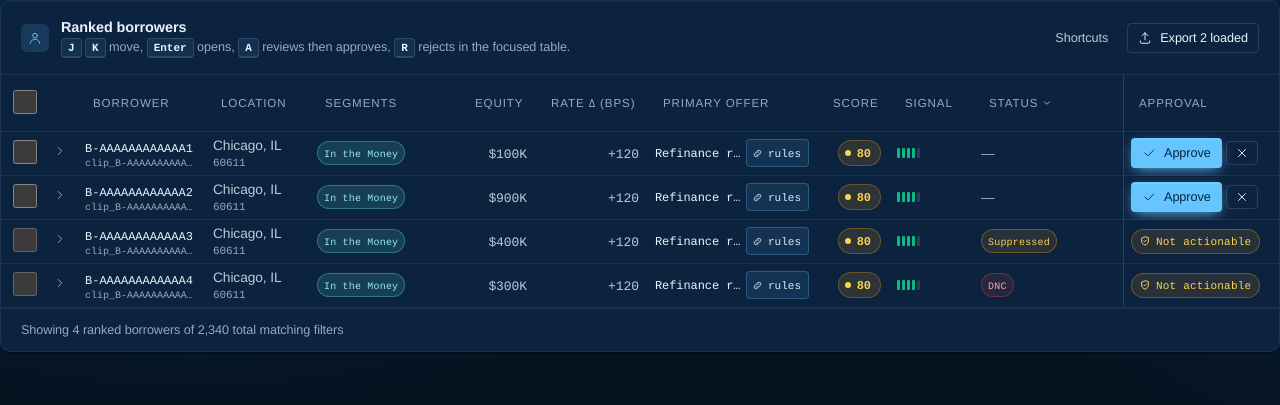
Scenario: LeadTable CSV export › honest scope (D-approval-flow-b) › says it without a link where there is no campaign handoff (Segment Intelligence)
This screenshot has width=1280, height=405.
Click the button with test id "lead-export" at (1193, 38), box [1127, 23, 1259, 53]
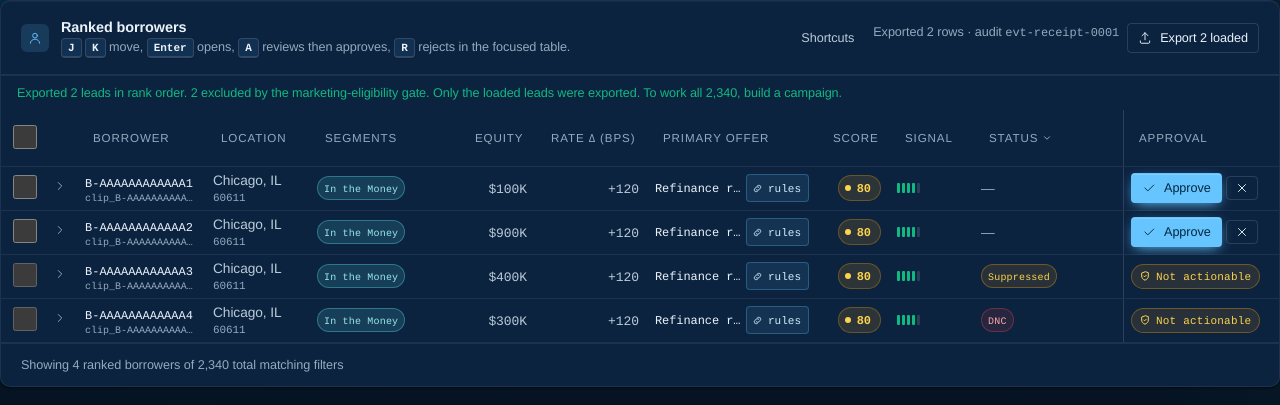
Result: the message with test id "lead-export-notice" shows "To work all 2,340, build a campaign." at [1, 75, 1279, 110]
